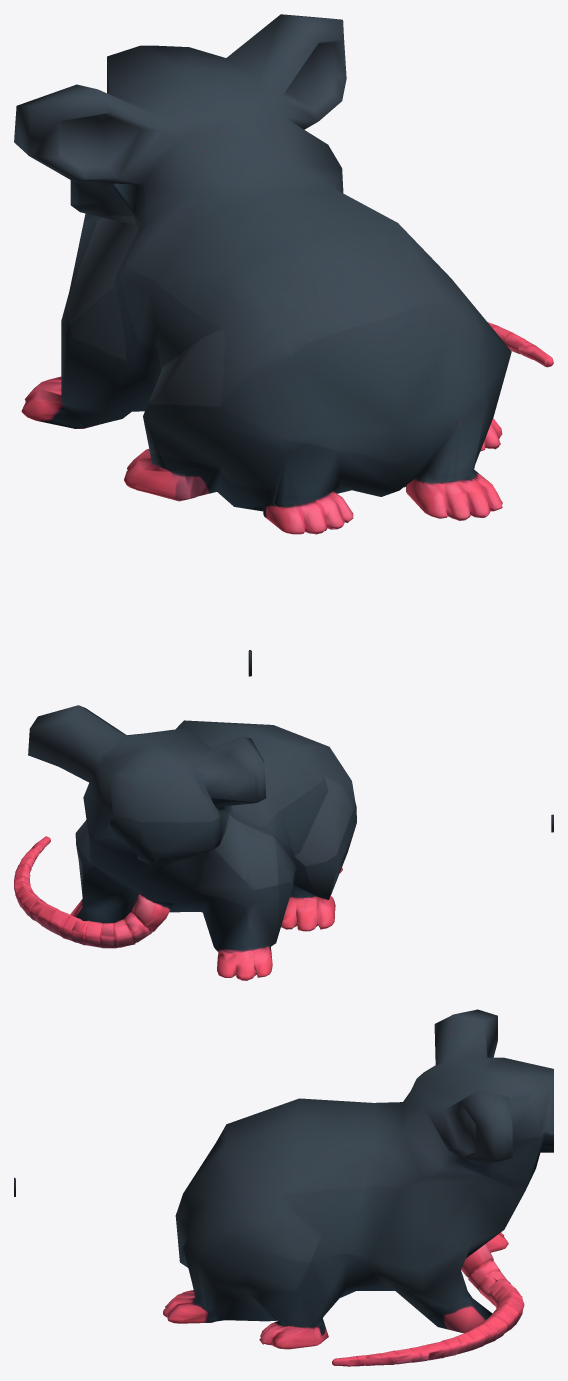
The model's file is 019e0fa3-75bb-7925-b2a7-87c4fea4ac1c.glb.
The picture shows the model from 3 angles, top to bottom: view 1: azimuth 30°, elevation 25°; view 2: azimuth 150°, elevation 25°; view 3: azimuth 270°, elevation 25°; orthographic projection. The views are drawn at different scales.
Parts seen in each view (by area): view 1: tripo_node_0b329162-9d56-4382-8480-67f4dba718f3; view 2: tripo_node_0b329162-9d56-4382-8480-67f4dba718f3; view 3: tripo_node_0b329162-9d56-4382-8480-67f4dba718f3.
Part boxes in pixels (left/top/right/bottom): tripo_node_0b329162-9d56-4382-8480-67f4dba718f3: left=14, top=14, right=553, bottom=676; tripo_node_0b329162-9d56-4382-8480-67f4dba718f3: left=14, top=705, right=553, bottom=980; tripo_node_0b329162-9d56-4382-8480-67f4dba718f3: left=14, top=1009, right=553, bottom=1366.
Bounding box in the file's own units: 0.8105 × 0.4863 × 0.998.
1 material, 1 textured.
